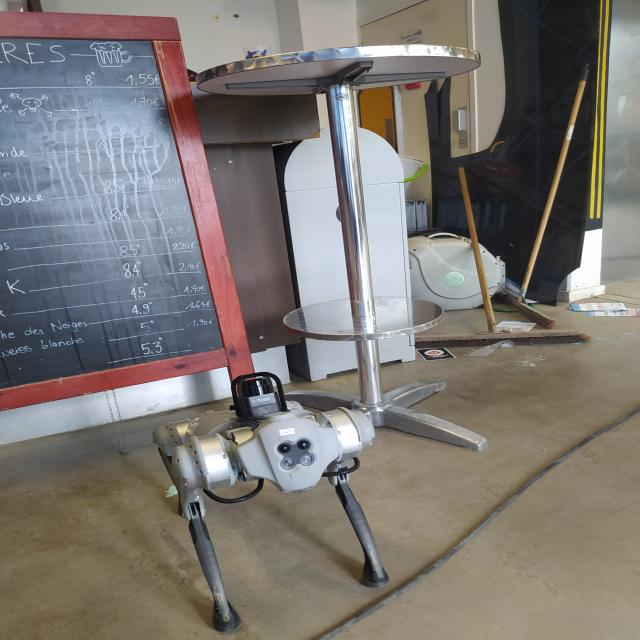unitree-go1-robot: (146, 374, 404, 630)
